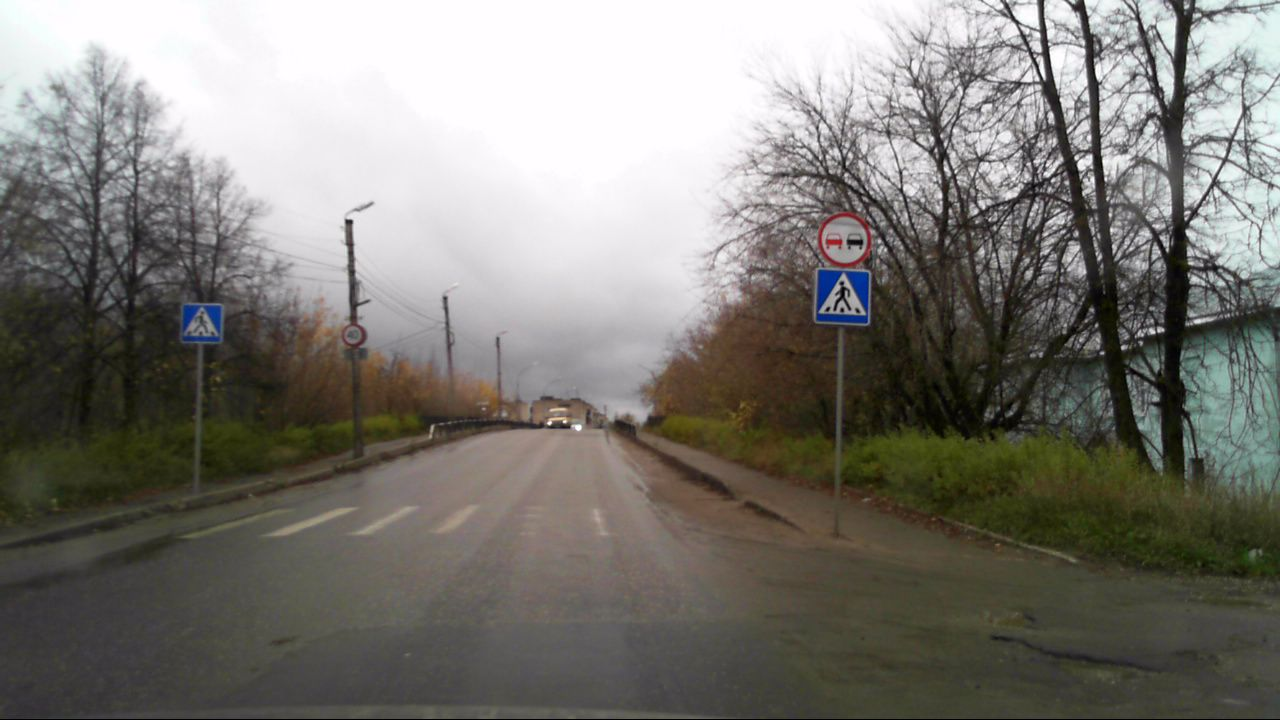speed_warning_40: (340, 323, 367, 348)
